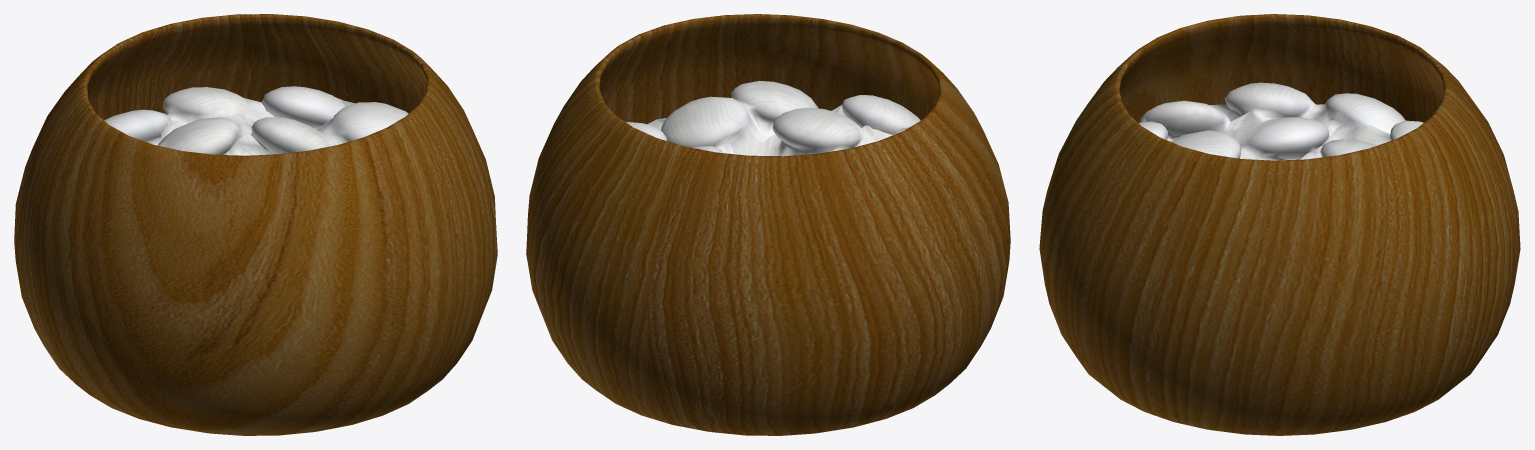
File: goke.fbx
3 renders of one model, left to right at view 1: azimuth 30°, elevation 25°; view 2: azimuth 150°, elevation 25°; view 3: azimuth 270°, elevation 25°, orthographic.
Visible parts, largest first — view 1: Goke, StonesWave; view 2: Goke, StonesWave; view 3: Goke, StonesWave.
Part boxes in pixels (x1,y1,x2,y2): Goke: (14, 14, 497, 435); StonesWave: (104, 86, 408, 155); Goke: (526, 14, 1010, 435); StonesWave: (625, 80, 920, 156); Goke: (1039, 14, 1520, 435); StonesWave: (1139, 82, 1423, 160).
Size of the model in its own units: 16.95 by 10.87 by 16.9.
